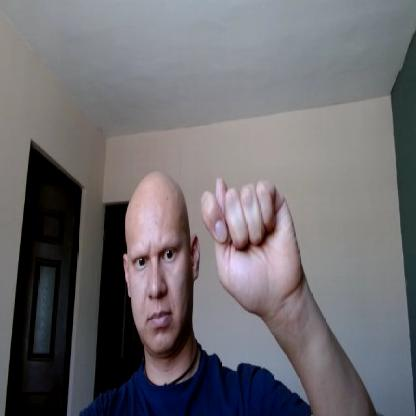T: (200, 172, 300, 318)
